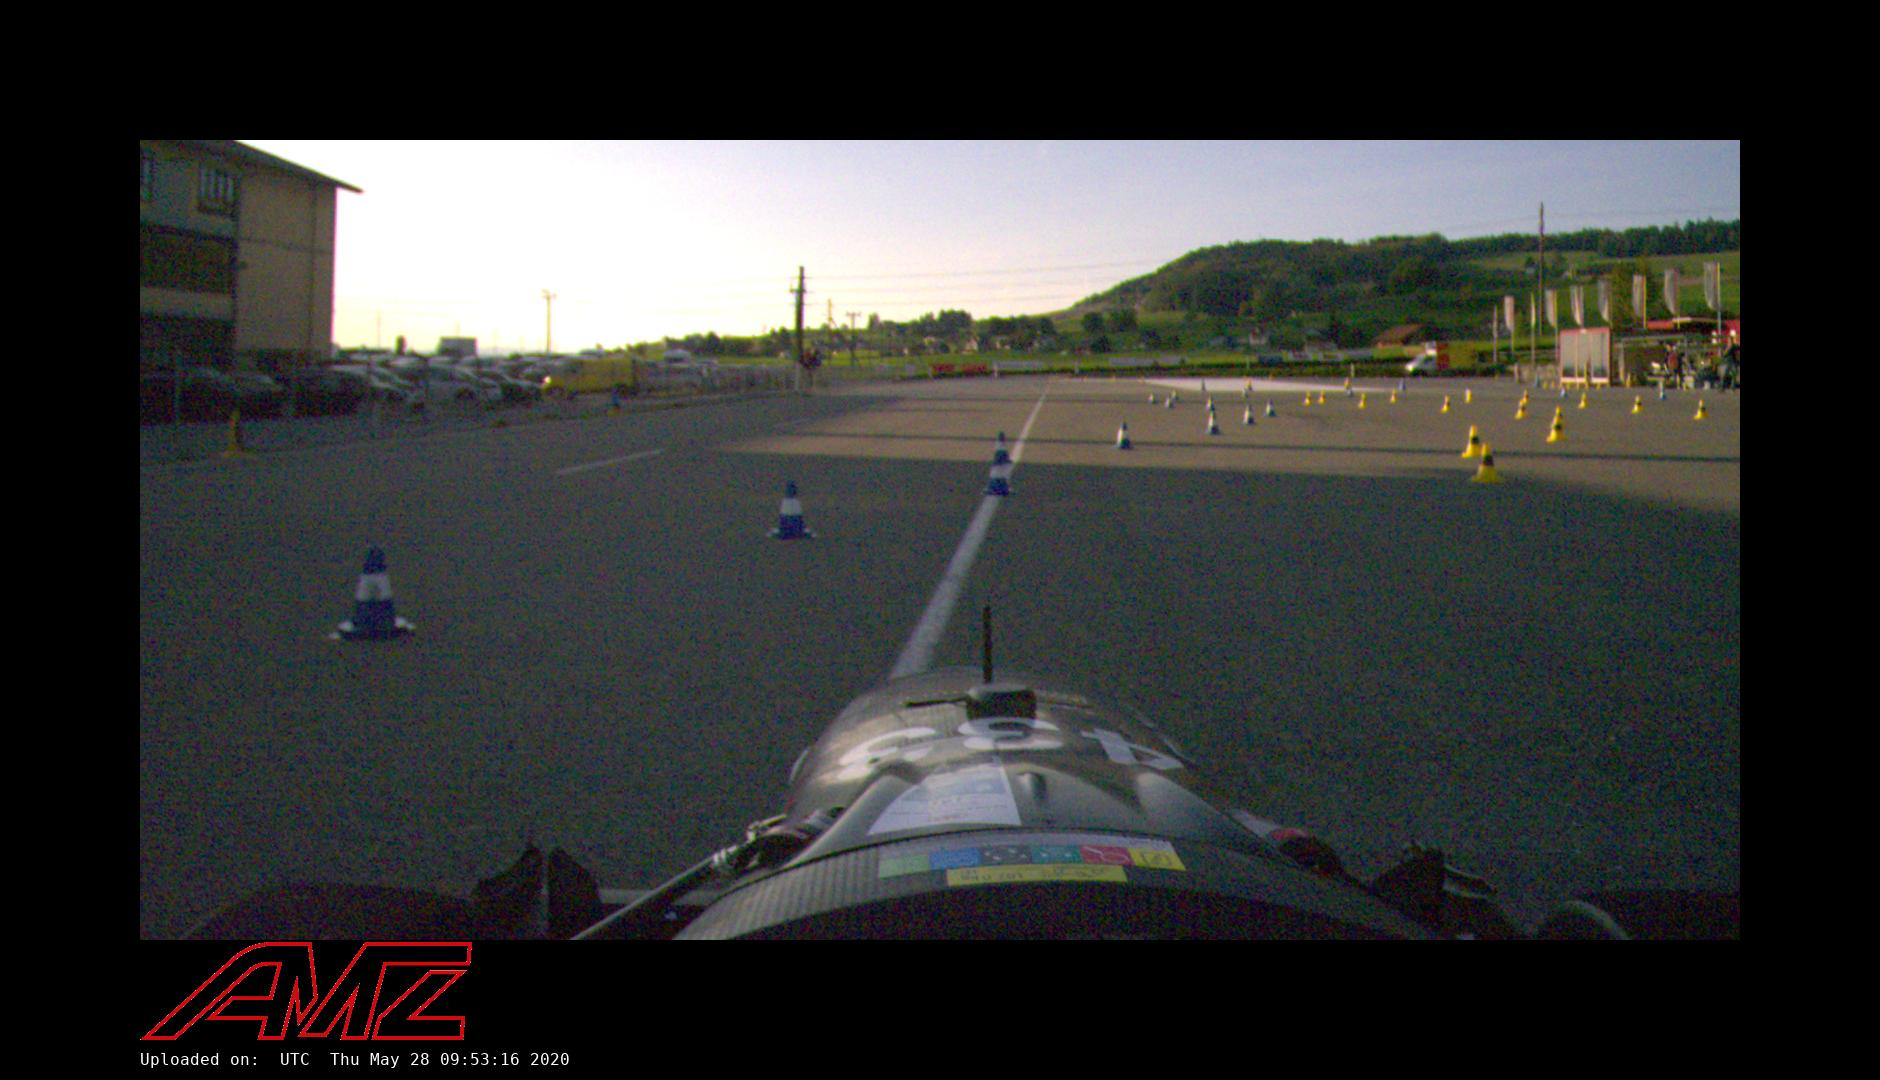blue_cone: (325, 544, 416, 650), (767, 478, 818, 542), (983, 455, 1015, 497), (990, 431, 1015, 465), (1112, 422, 1135, 451), (1205, 411, 1222, 435), (1241, 404, 1256, 426), (1265, 398, 1277, 418), (1164, 394, 1175, 409), (1206, 396, 1216, 411), (1659, 389, 1666, 400)
yellow_cone: (215, 408, 255, 464), (1469, 443, 1503, 484), (1463, 425, 1485, 458), (1544, 416, 1565, 444), (1550, 406, 1567, 430), (1693, 399, 1711, 421), (1513, 400, 1530, 421), (1630, 395, 1645, 415), (1439, 395, 1453, 414), (1577, 393, 1590, 410), (1356, 392, 1367, 409), (1521, 390, 1532, 404), (1317, 390, 1327, 404), (1390, 389, 1399, 404), (1464, 389, 1473, 403), (1305, 391, 1313, 406)
